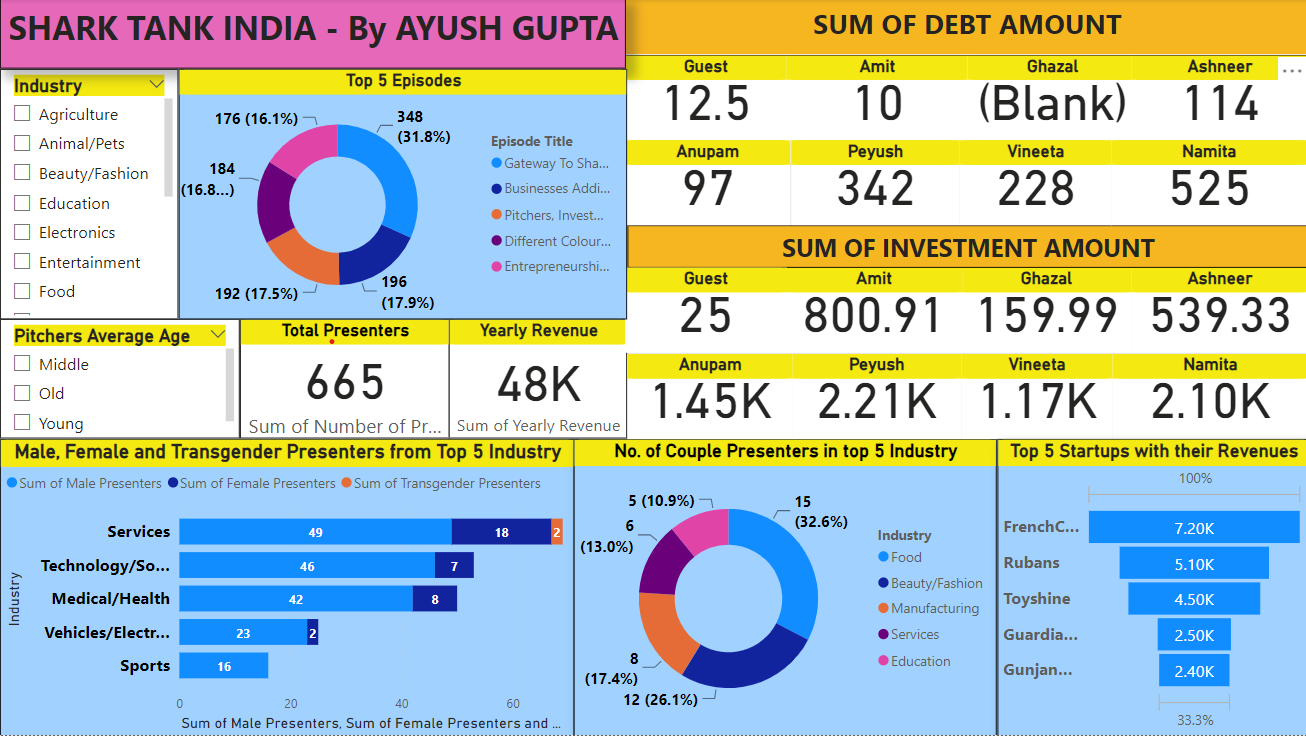

The page's visual inventory and layout, read from the dashboard file:
{"tool":"powerbi","page":{"name":"Page 1","canvas":[1280,720],"ordinal":0},"visuals":[{"type":"barChart","title":"Male, Female and Transgender Presenters from Top 5 Industry","fields":{"Category":["Shark Tank India.Industry"],"Y":["Shark Tank India.Male Presenters","Shark Tank India.Female Presenters","Shark Tank India.Transgender Presenters"]},"box":[0,430,561.7,290],"z":0},{"type":"slicer","fields":{"Values":["Shark Tank India.Industry"]},"box":[0,68.7,174.6,244.8],"z":1000},{"type":"slicer","fields":{"Values":["Shark Tank India.Pitchers Average Age"]},"box":[0,313.4,234.3,116.4],"z":2000},{"type":"donutChart","title":"No. of Couple Presenters in top 5 Industry","fields":{"Y":["Shark Tank India.Couple Presenters"],"Category":["Shark Tank India.Industry"]},"box":[561.7,430,413.3,290],"z":3000},{"type":"card","title":"Yearly Revenue","fields":{"Values":["Shark Tank India.Yearly Revenue"]},"box":[438.8,313.4,174.6,116.4],"z":4000},{"type":"card","title":"Ghazal","fields":{"Values":["Shark Tank India.Ghazal Investment Amount"]},"box":[940,263.3,166.7,83.3],"z":5000},{"type":"card","title":"Ashneer","fields":{"Values":["Shark Tank India.Ashneer Investment Amount"]},"box":[1106.7,263.3,173.3,83.3],"z":6000},{"type":"card","title":"Amit","fields":{"Values":["Shark Tank India.Amit Investment Amount"]},"box":[768.3,263.3,171.7,83.3],"z":7000},{"type":"card","title":"Namita","fields":{"Values":["Shark Tank India.Namita Investment Amount"]},"box":[1088.3,346.7,191.7,83.3],"z":8000},{"type":"card","title":"Peyush","fields":{"Values":["Shark Tank India.Peyush Investment Amount"]},"box":[775,346.7,165,83.3],"z":9000},{"type":"card","title":"Vineeta","fields":{"Values":["Shark Tank India.Vineeta Investment Amount"]},"box":[940,346.7,148.3,83.3],"z":10000},{"type":"card","title":"Total Presenters","fields":{"Values":["Shark Tank India.Number of Presenters"]},"box":[234.3,313.4,204.5,116.4],"z":11000},{"type":"textbox","box":[613.3,221.7,665,41.7],"z":12000},{"type":"card","title":"Anupam","fields":{"Values":["Shark Tank India.Anupam Investment Amount"]},"box":[613.3,346.7,161.7,83.3],"z":13000},{"type":"card","title":"Guest","fields":{"Values":["Shark Tank India.Guest Investment Amount"]},"box":[611.7,263.3,158.3,83.3],"z":14000},{"type":"funnel","title":"Top 5 Startups with their Revenues","fields":{"Category":["Shark Tank India.Startup Name"],"Y":["Shark Tank India.Yearly Revenue"]},"box":[975,430,305,290],"z":15000},{"type":"card","title":"Guest","fields":{"Values":["Shark Tank India.Guest Debt Amount"]},"box":[611.7,55,158.3,83.3],"z":16000},{"type":"card","title":"Anupam","fields":{"Values":["Shark Tank India.Anupam Debt Amount"]},"box":[611.7,138.3,161.7,83.3],"z":17000},{"type":"card","title":"Amit","fields":{"Values":["Shark Tank India.Amit Debt Amount"]},"box":[768.3,55,178.3,83.3],"z":18000},{"type":"card","title":"Peyush","fields":{"Values":["Shark Tank India.Peyush Debt Amount"]},"box":[773.3,138.3,165,83.3],"z":19000},{"type":"card","title":"Ghazal","fields":{"Values":["Shark Tank India.Ghazal Debt Amount"]},"box":[946.7,55,166.7,83.3],"z":20000},{"type":"card","title":"Vineeta","fields":{"Values":["Shark Tank India.Vineeta Debt Amount"]},"box":[938.3,138.3,148.3,83.3],"z":21000},{"type":"card","title":"Ashneer","fields":{"Values":["Shark Tank India.Ashneer Debt Amount"]},"box":[1106.7,55,173.3,83.3],"z":22000},{"type":"card","title":"Namita","fields":{"Values":["Shark Tank India.Namita Debt Amount"]},"box":[1086.7,138.3,191.7,83.3],"z":23000},{"type":"textbox","box":[611.7,0,668.3,55],"z":24000},{"type":"textbox","box":[0,0,611.7,68.3],"z":25000},{"type":"donutChart","title":"Top 5 Episodes","fields":{"Category":["Shark Tank India.Episode Title"],"Y":["Shark Tank India.Episode Number"]},"box":[175,68.3,438.3,245],"z":26000}]}

Visuals, with their boxes in screenshot pixels (x1, y1, x2, y2), scaled from the page's 1280x720 canvas onto the 1306x736 screenshot:
"Male, Female and Transgender Presenters from Top 5 Industry" barChart: box(0, 440, 573, 735)
slicer - Shark Tank India.Industry: box(0, 70, 178, 320)
slicer - Shark Tank India.Pitchers Average Age: box(0, 320, 239, 439)
"No. of Couple Presenters in top 5 Industry" donutChart: box(573, 440, 995, 735)
"Yearly Revenue" card: box(448, 320, 626, 439)
"Ghazal" card: box(959, 269, 1129, 354)
"Ashneer" card: box(1129, 269, 1305, 354)
"Amit" card: box(784, 269, 959, 354)
"Namita" card: box(1110, 354, 1305, 440)
"Peyush" card: box(791, 354, 959, 440)
"Vineeta" card: box(959, 354, 1110, 440)
"Total Presenters" card: box(239, 320, 448, 439)
textbox: box(626, 227, 1304, 269)
"Anupam" card: box(626, 354, 791, 440)
"Guest" card: box(624, 269, 786, 354)
"Top 5 Startups with their Revenues" funnel: box(995, 440, 1305, 735)
"Guest" card: box(624, 56, 786, 141)
"Anupam" card: box(624, 141, 789, 227)
"Amit" card: box(784, 56, 966, 141)
"Peyush" card: box(789, 141, 957, 227)
"Ghazal" card: box(966, 56, 1136, 141)
"Vineeta" card: box(957, 141, 1109, 227)
"Ashneer" card: box(1129, 56, 1305, 141)
"Namita" card: box(1109, 141, 1304, 227)
textbox: box(624, 0, 1305, 56)
textbox: box(0, 0, 624, 70)
"Top 5 Episodes" donutChart: box(179, 70, 626, 320)
